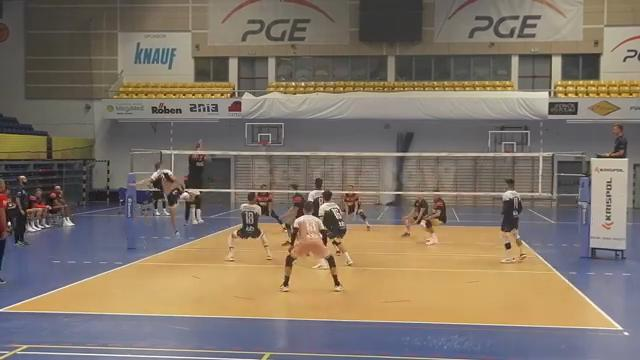Attack: (123, 160, 198, 239)
Block: (184, 138, 211, 228)
Player: (280, 202, 342, 291), (225, 192, 271, 261), (319, 190, 352, 265), (501, 179, 525, 262), (257, 184, 285, 229), (343, 185, 370, 230), (421, 196, 446, 244), (281, 184, 304, 236), (402, 196, 428, 236), (308, 178, 322, 216)
